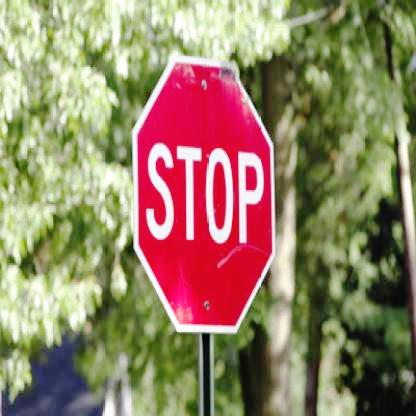Stop Sign: (129, 14, 279, 338)
